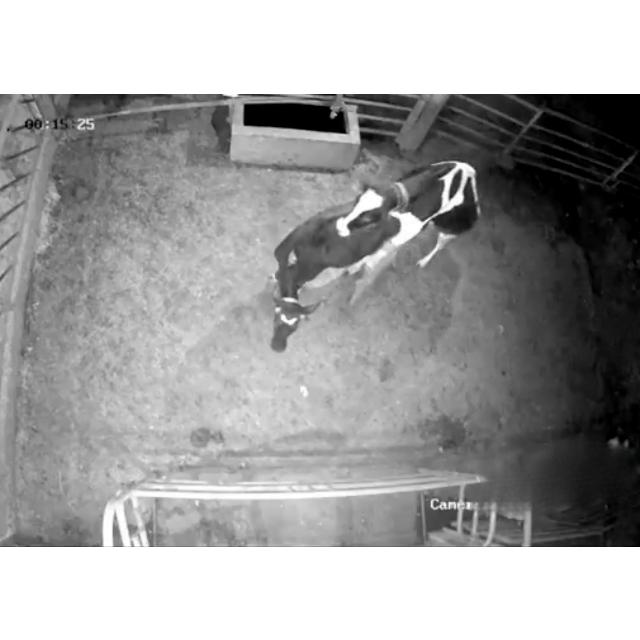ride: (335, 158, 487, 284)
